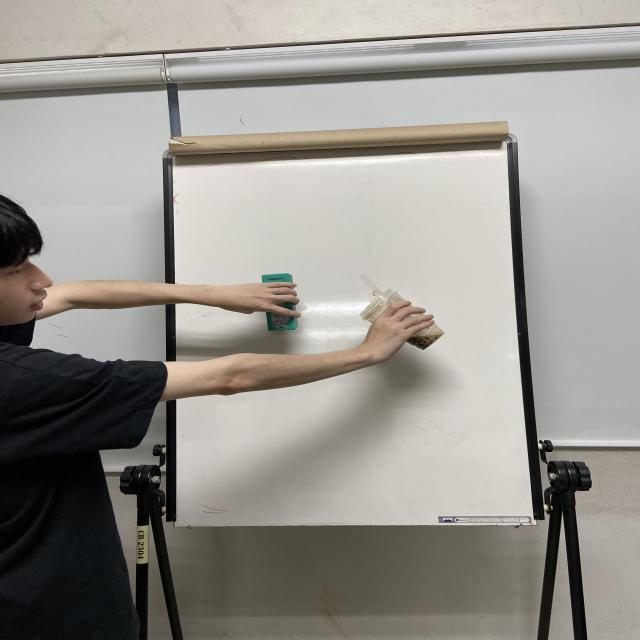cup: (356, 288, 446, 352)
